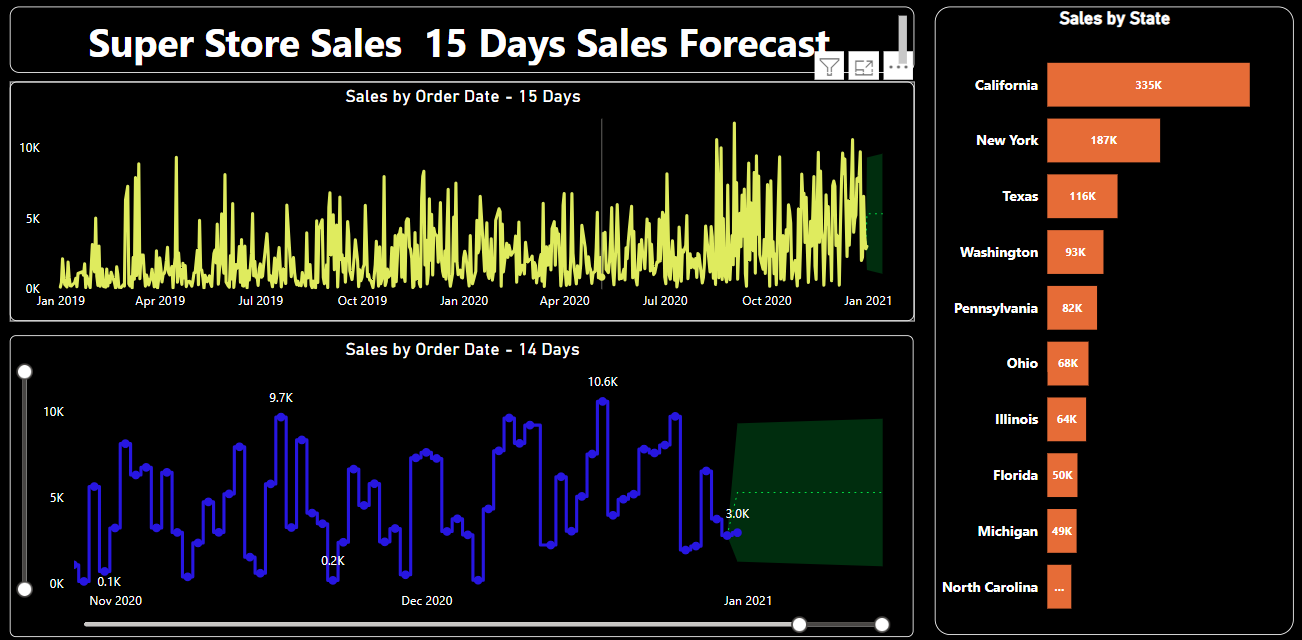

Layout of this report page (visuals, bound fields, positions):
{"tool":"powerbi","page":{"name":"Page 3","canvas":[1280,720],"ordinal":1},"visuals":[{"type":"lineChart","title":"Sales by Order Date - 15 Days","fields":{"Y":["Sum(superSales.Sales)"],"Category":["superSales.Order Date"]},"box":[22.9,79.6,873.2,231.6],"z":0},{"type":"lineChart","title":" Sales by Order Date - 14 Days","fields":{"Y":["Sum(superSales.Sales)"],"Category":["superSales.Order Date"]},"box":[23.3,324.4,872.2,291.1],"z":1000},{"type":"textbox","box":[22.9,7.2,873.2,63.9],"z":2000},{"type":"barChart","title":"Sales by State","fields":{"Category":["superSales.State"],"Y":["Sum(superSales.Sales)"]},"box":[915.4,7.2,346.1,606.6],"z":3000}]}

Visuals, with their boxes on the page's 1280x720 design canvas (x1, y1, x2, y2). These are canvas units, not pixel positions in the 1302x640 screenshot, which may show the page scaled, cropped or inside an application window:
"Sales by Order Date - 15 Days" lineChart: x1=23, y1=80, x2=896, y2=311
" Sales by Order Date - 14 Days" lineChart: x1=23, y1=324, x2=896, y2=616
textbox: x1=23, y1=7, x2=896, y2=71
"Sales by State" barChart: x1=915, y1=7, x2=1262, y2=614
